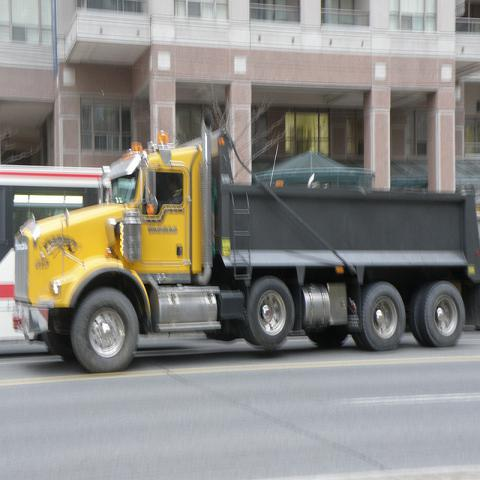truck: (14, 109, 480, 374)
